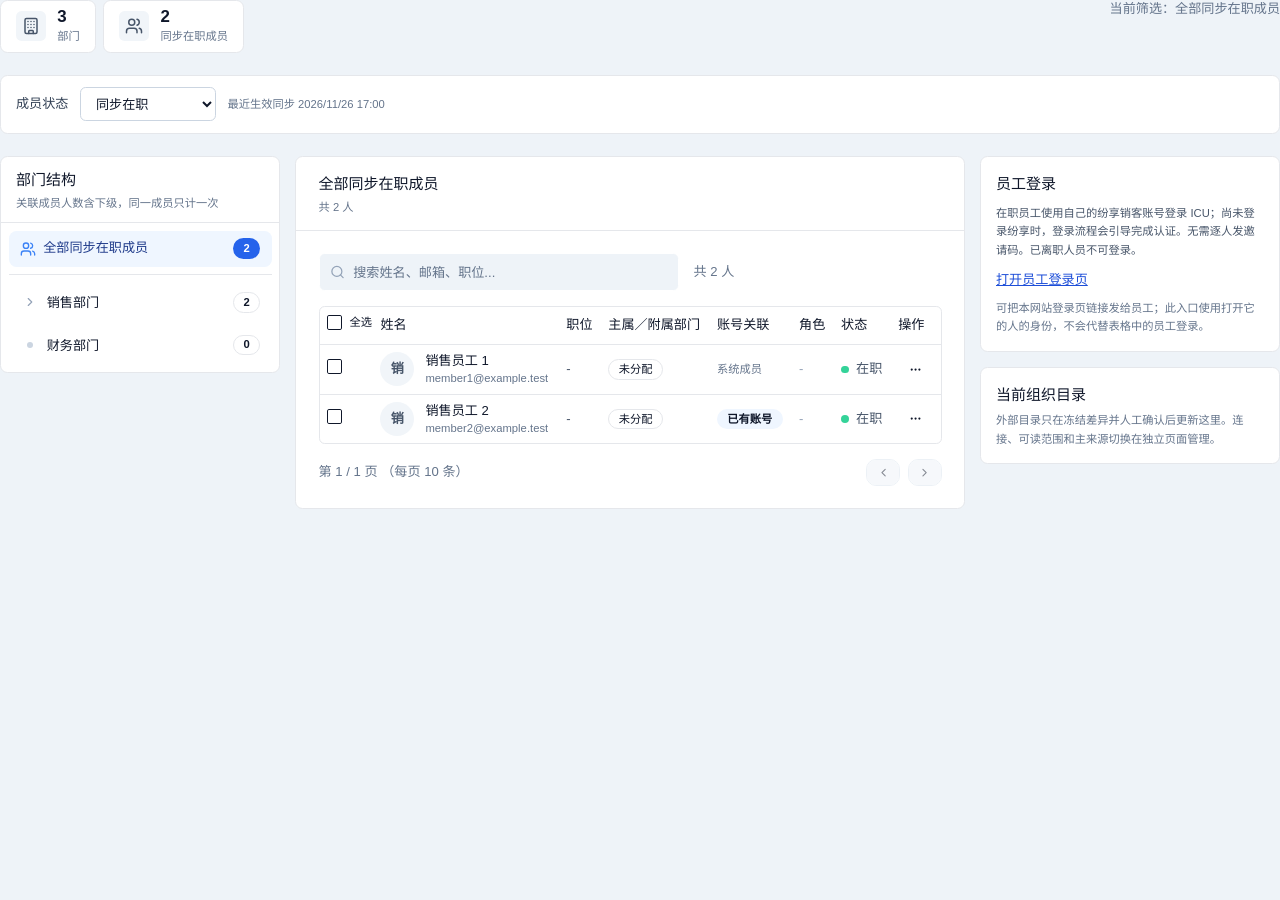
Test case: offers bulk removal with only removal permission and reports each skipped member
Click the button "销售部门 2" at (73, 303), box left=23, top=292, right=260, bottom=313
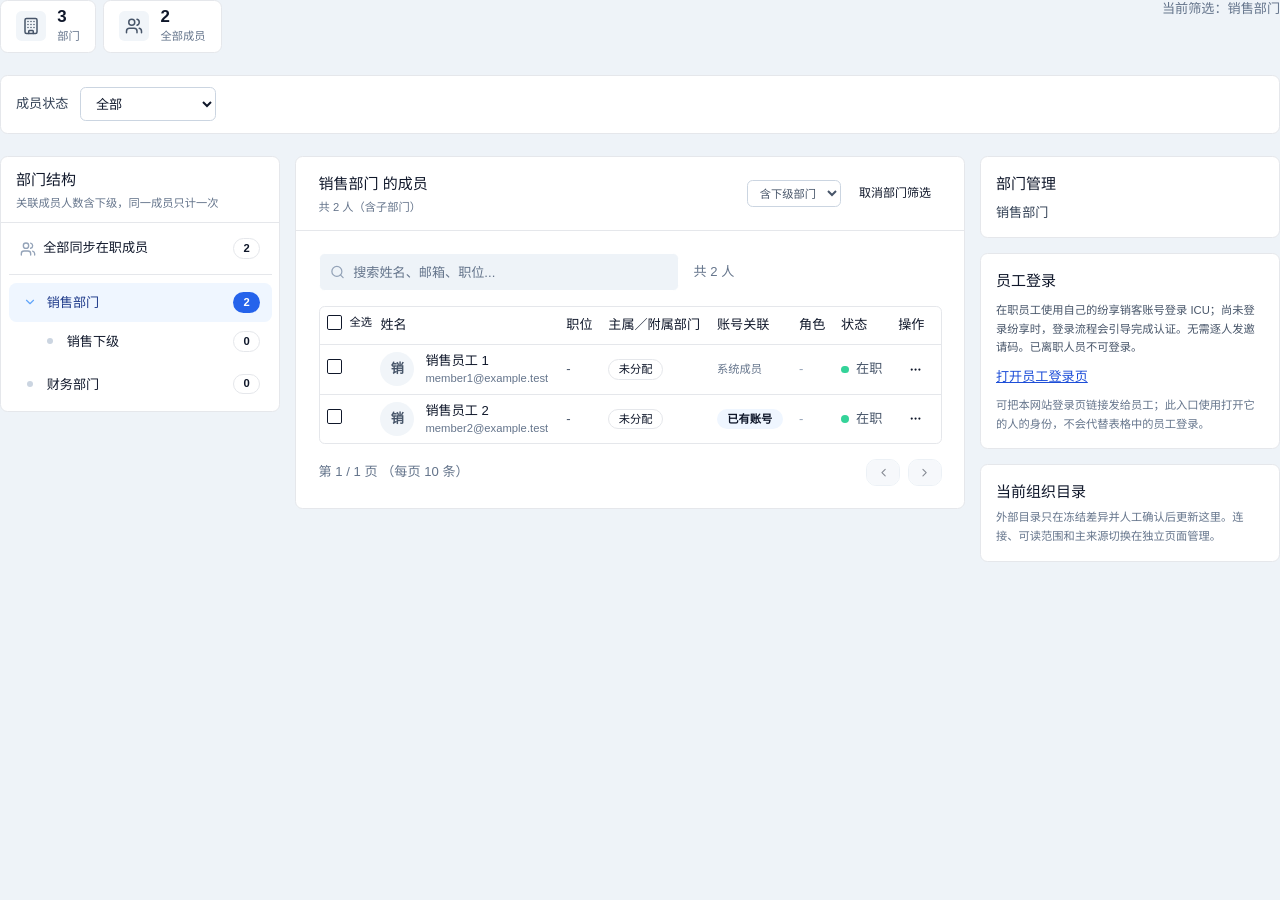
Click the checkbox named "全选当前名单" at (334, 322), box left=327, top=315, right=342, bottom=330
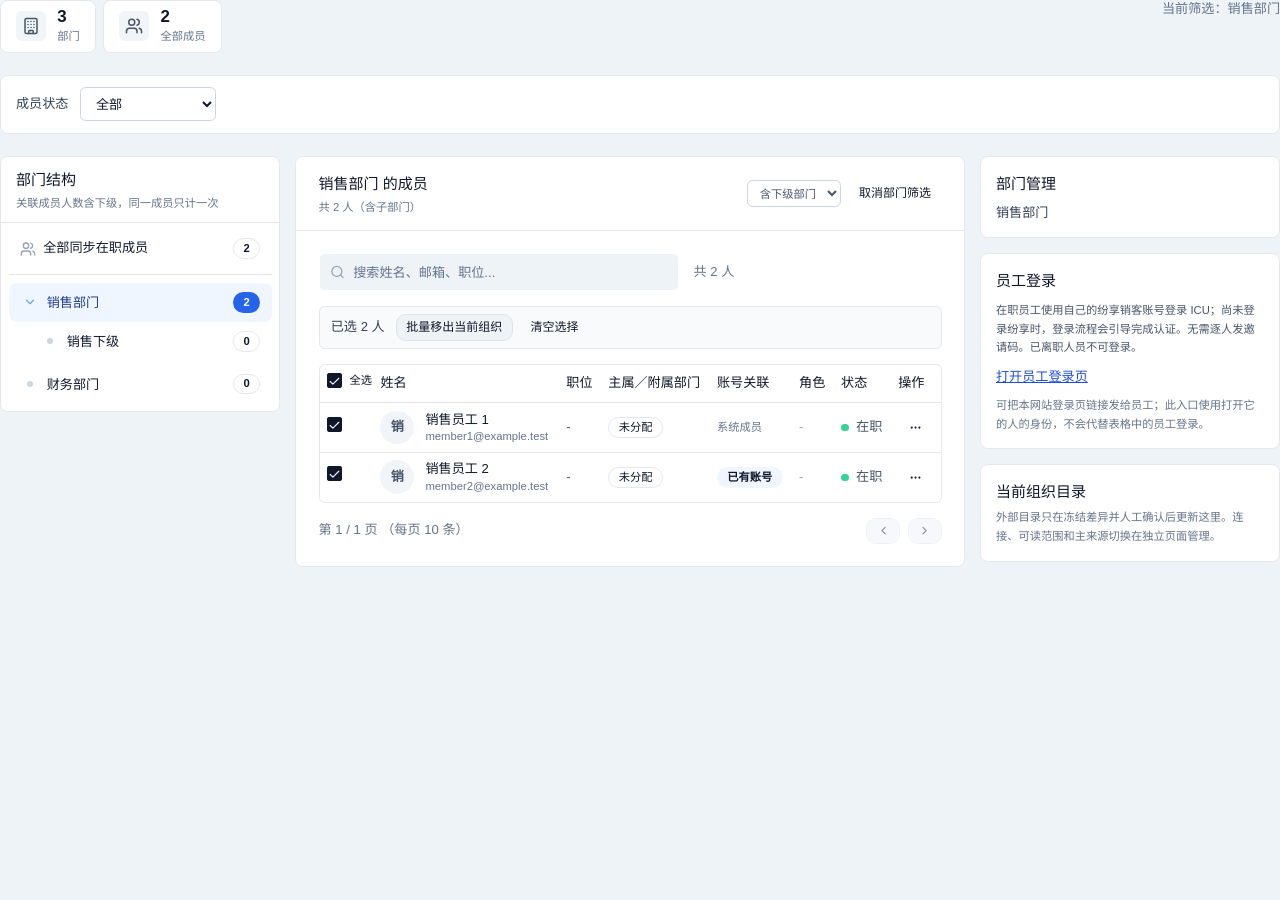
Click the button "批量移出当前组织" at (454, 328), box left=396, top=314, right=513, bottom=341
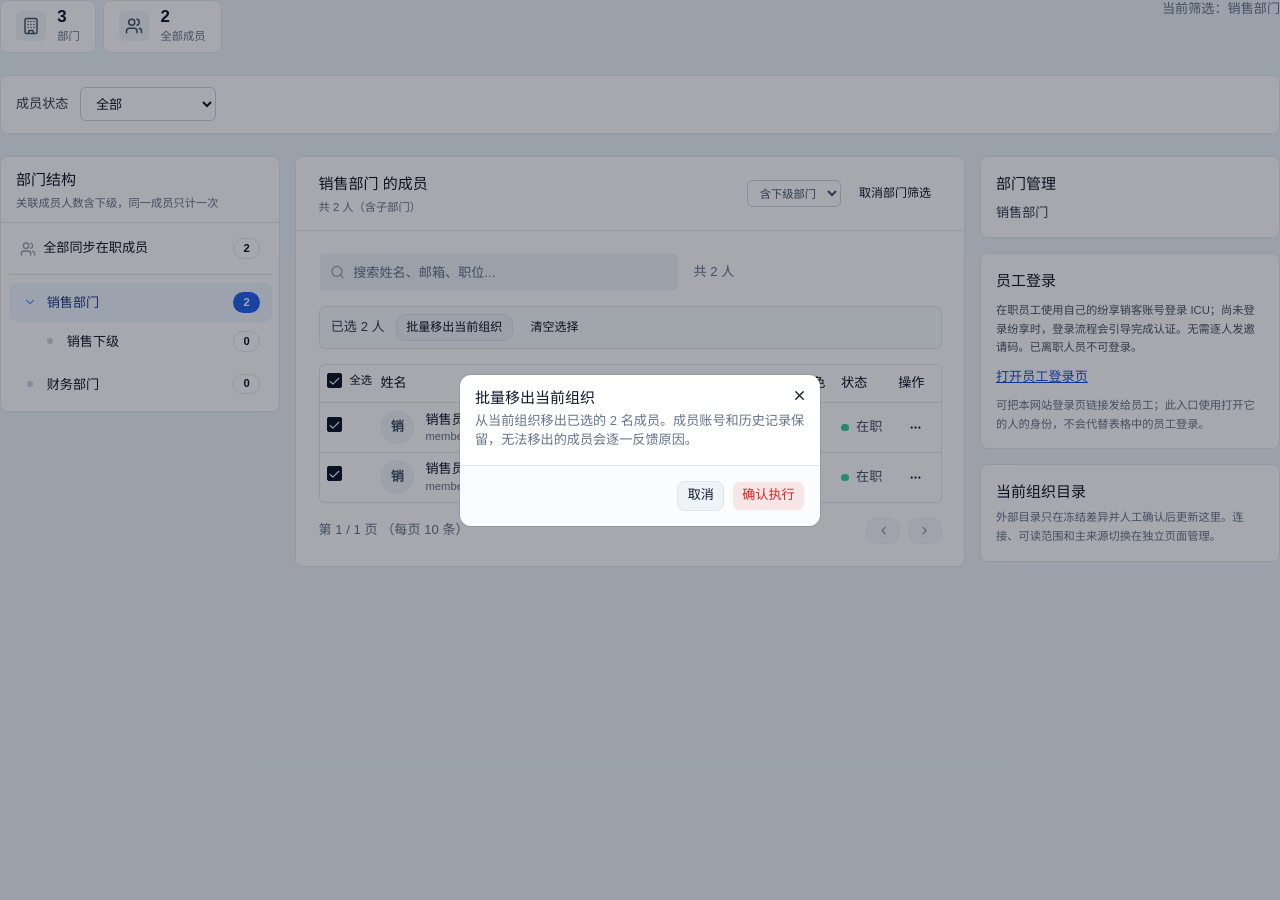
Click the button "确认执行" at (768, 496), box left=732, top=480, right=805, bottom=510
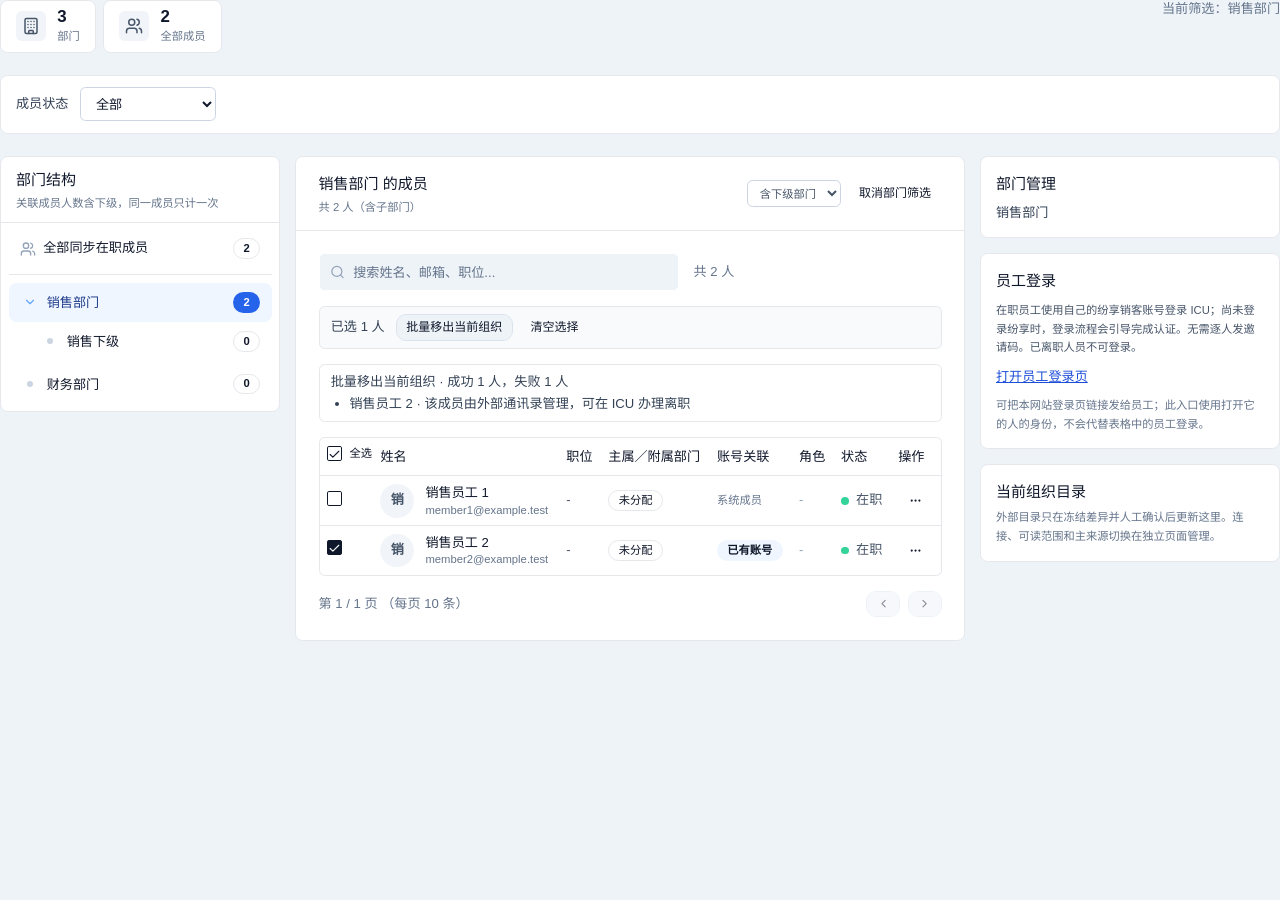
Check: the text "批量移出当前组织 · 成功 1 人，失败 1 人" is shown, box left=331, top=374, right=568, bottom=389
Check: the list item "销售员工 2 · 该成员由外部通讯录管理，可在 ICU 办理离职" is shown, box left=350, top=396, right=690, bottom=411
Check: the checkbox named "选择销售员工 1" is not checked, box left=327, top=491, right=342, bottom=506
